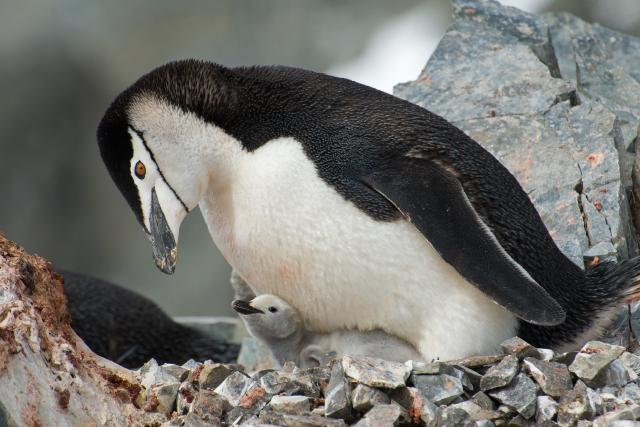chinstrap: (100, 42, 568, 378)
